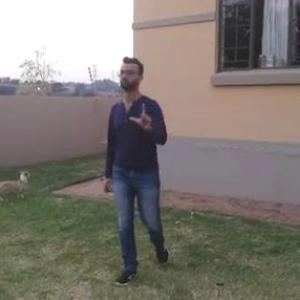land_hand: (128, 96, 159, 134)
